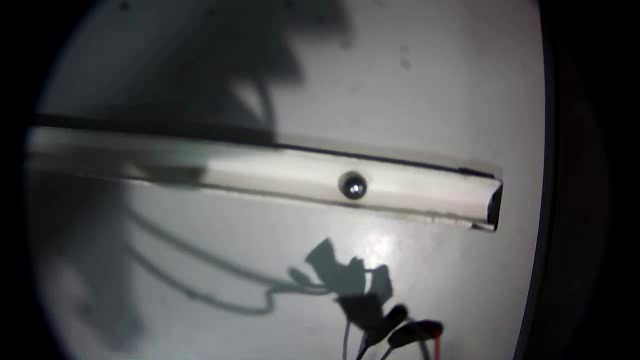gangzhu: (339, 171, 369, 200)
